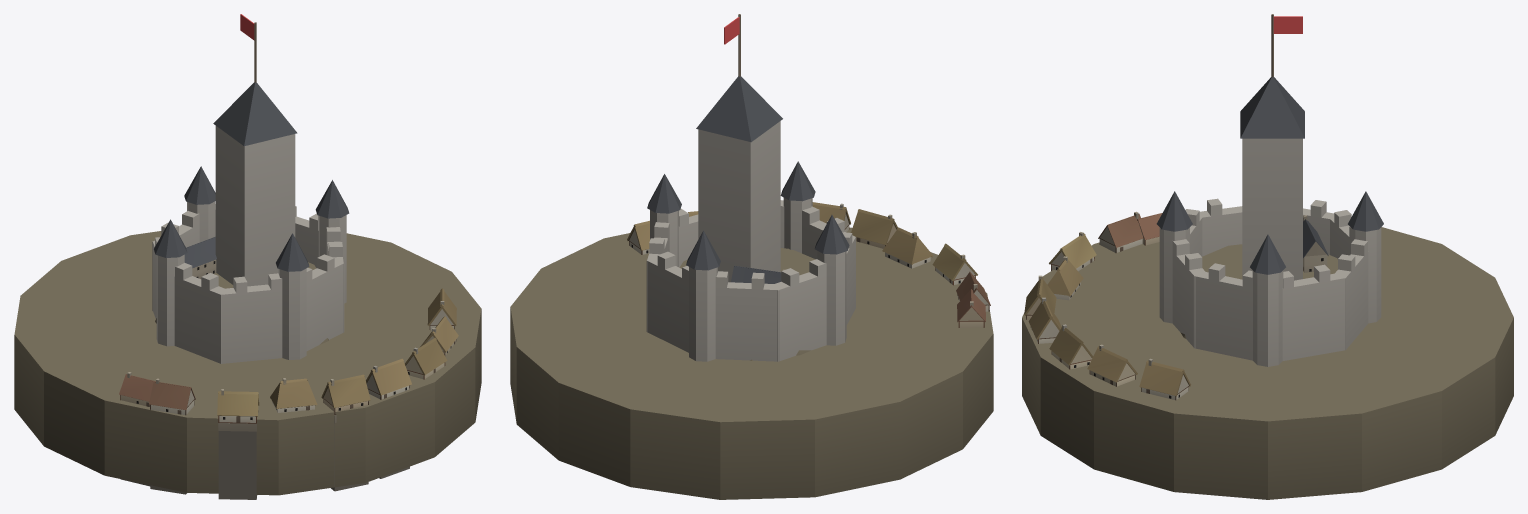
Rendered from castle_b.glb.
3 views of the same model, side by side, from view 1: azimuth 30°, elevation 25°; view 2: azimuth 150°, elevation 25°; view 3: azimuth 270°, elevation 25° (orthographic). The views are drawn at different scales.
Parts seen in each view (by area): view 1: castle_b; view 2: castle_b; view 3: castle_b.
Part boxes in pixels (left/top/right/bottom): castle_b: left=14, top=14, right=481, bottom=499; castle_b: left=510, top=14, right=993, bottom=499; castle_b: left=1022, top=14, right=1513, bottom=499.
Bounding box in the file's own units: 2.1 × 1.84 × 2.1.
